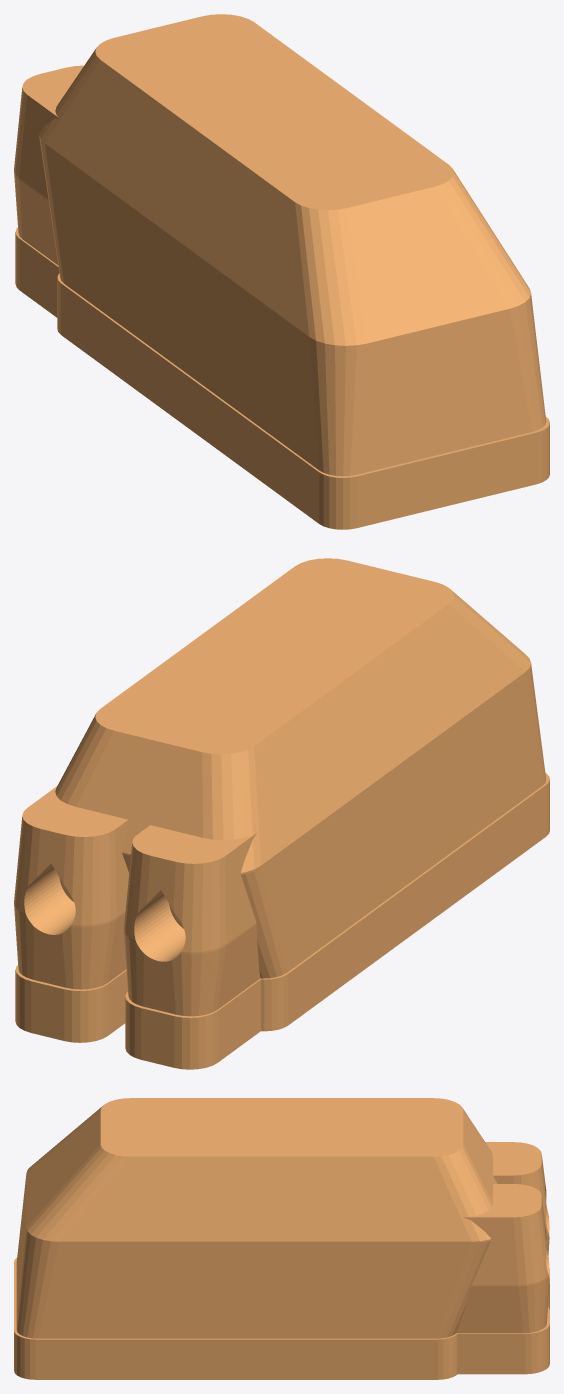
Rendered from kit-booster-pod.glb.
3 views of the same model, one above another, from view 1: azimuth 30°, elevation 25°; view 2: azimuth 150°, elevation 25°; view 3: azimuth 270°, elevation 25° (orthographic). The views are drawn at different scales.
Parts seen in each view (by area): view 1: kit-booster-pod; view 2: kit-booster-pod; view 3: kit-booster-pod.
Part boxes in pixels (x1,y1,x2,y2): kit-booster-pod: (14,14,549,529); kit-booster-pod: (14,558,549,1069); kit-booster-pod: (14,1098,549,1379).
Size of the model in its own units: 0.0248 by 0.028 by 0.065.
